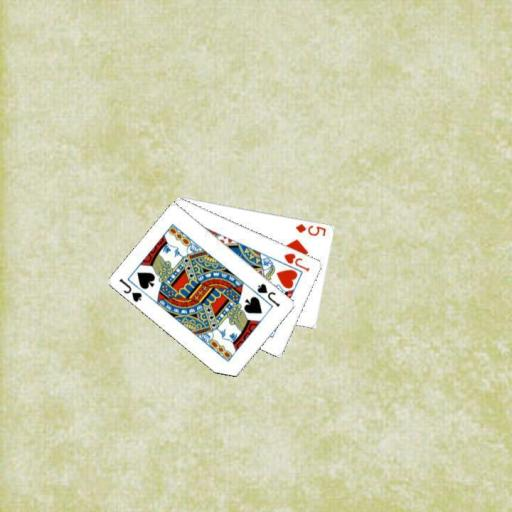card-corner: (116, 275, 144, 304), (254, 280, 281, 309), (281, 250, 311, 273), (293, 220, 328, 238)
